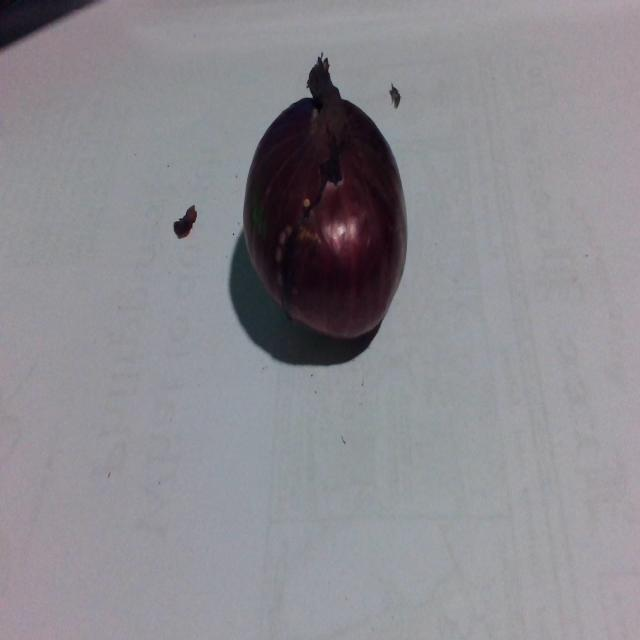onion: (244, 69, 414, 365)
